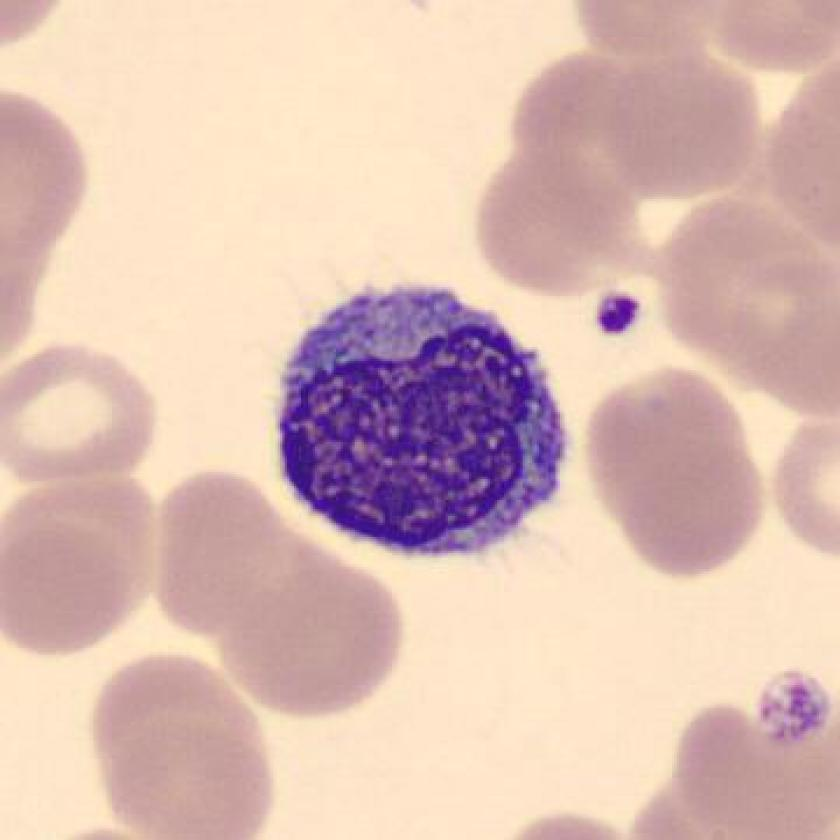monocyte: (253, 265, 589, 591)
